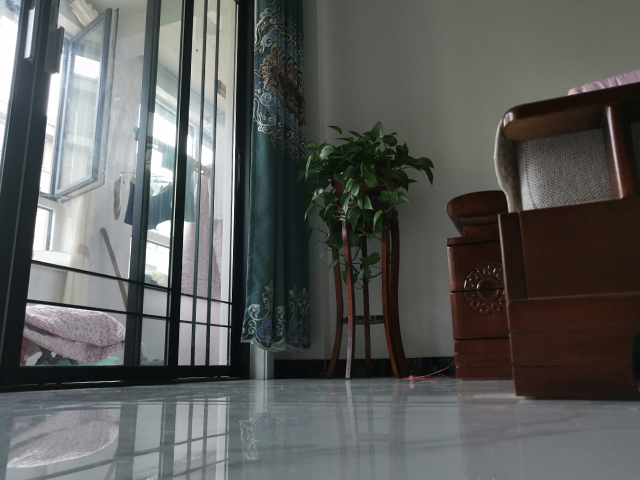curtain: (237, 1, 316, 355)
sofa: (442, 67, 640, 402)
